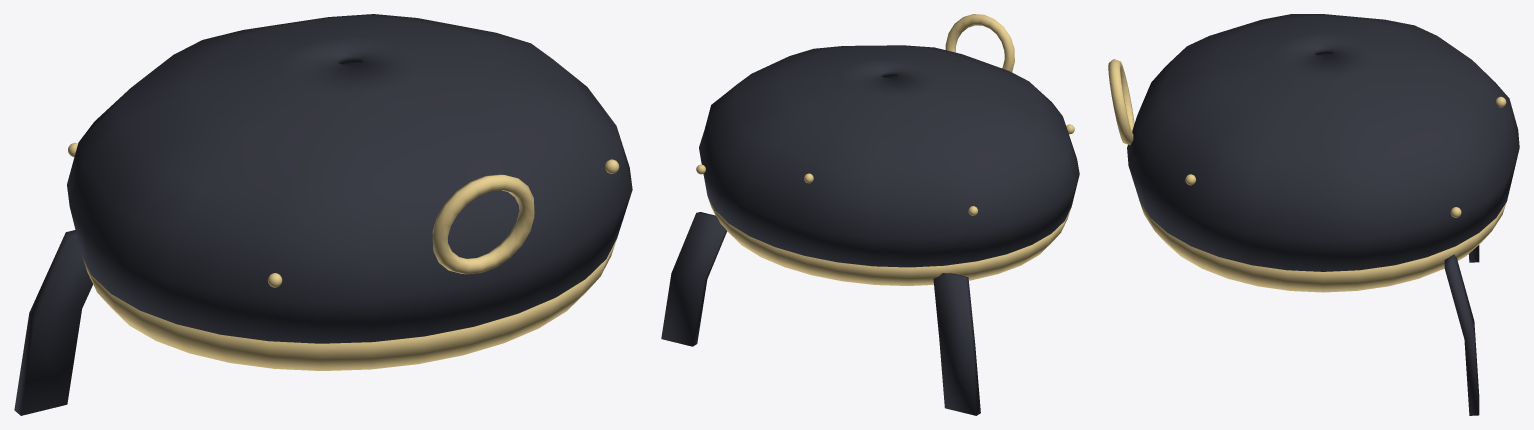
File: helm-void.glb
3 renders of one model, left to right at view 1: azimuth 30°, elevation 25°; view 2: azimuth 150°, elevation 25°; view 3: azimuth 270°, elevation 25°, orthographic. The views are drawn at different scales.
Parts seen in each view (by area): view 1: garment, garment.001, strip, ring-attachment; view 2: garment, garment.001, strip, strip.001, ring-attachment; view 3: garment, garment.001, strip.001, ring-attachment.
Boxes of the visible parts, box(x1,y1,x2,y2) form: garment: box(67, 14, 632, 343); garment.001: box(82, 239, 616, 370); strip: box(14, 230, 92, 415); ring-attachment: box(432, 174, 534, 274); garment: box(699, 45, 1079, 267); garment.001: box(707, 196, 1070, 285); strip: box(933, 273, 980, 415); strip.001: box(661, 212, 727, 346); ring-attachment: box(945, 14, 1014, 72); garment: box(1127, 14, 1519, 271); garment.001: box(1140, 202, 1506, 292); strip.001: box(1444, 254, 1479, 415); ring-attachment: box(1108, 59, 1134, 144).
Size of the model in its own units: 0.86 by 0.6112 by 0.8172.
